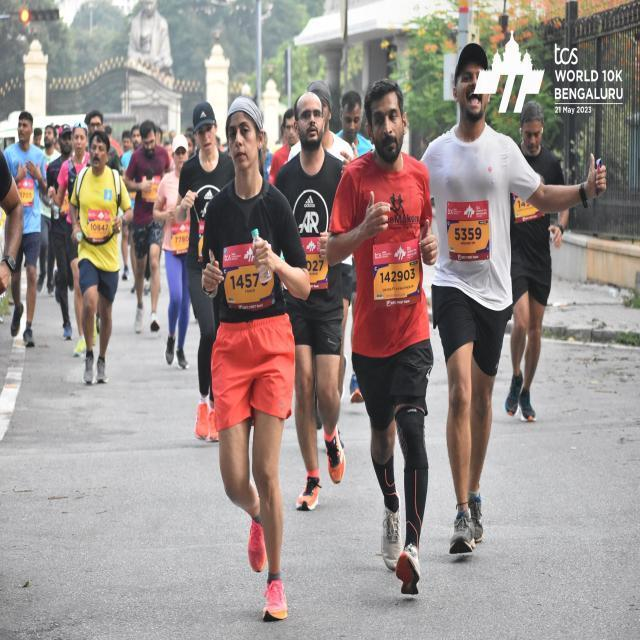dorsal: (445, 198, 492, 266), (372, 243, 421, 308), (223, 247, 275, 307)
